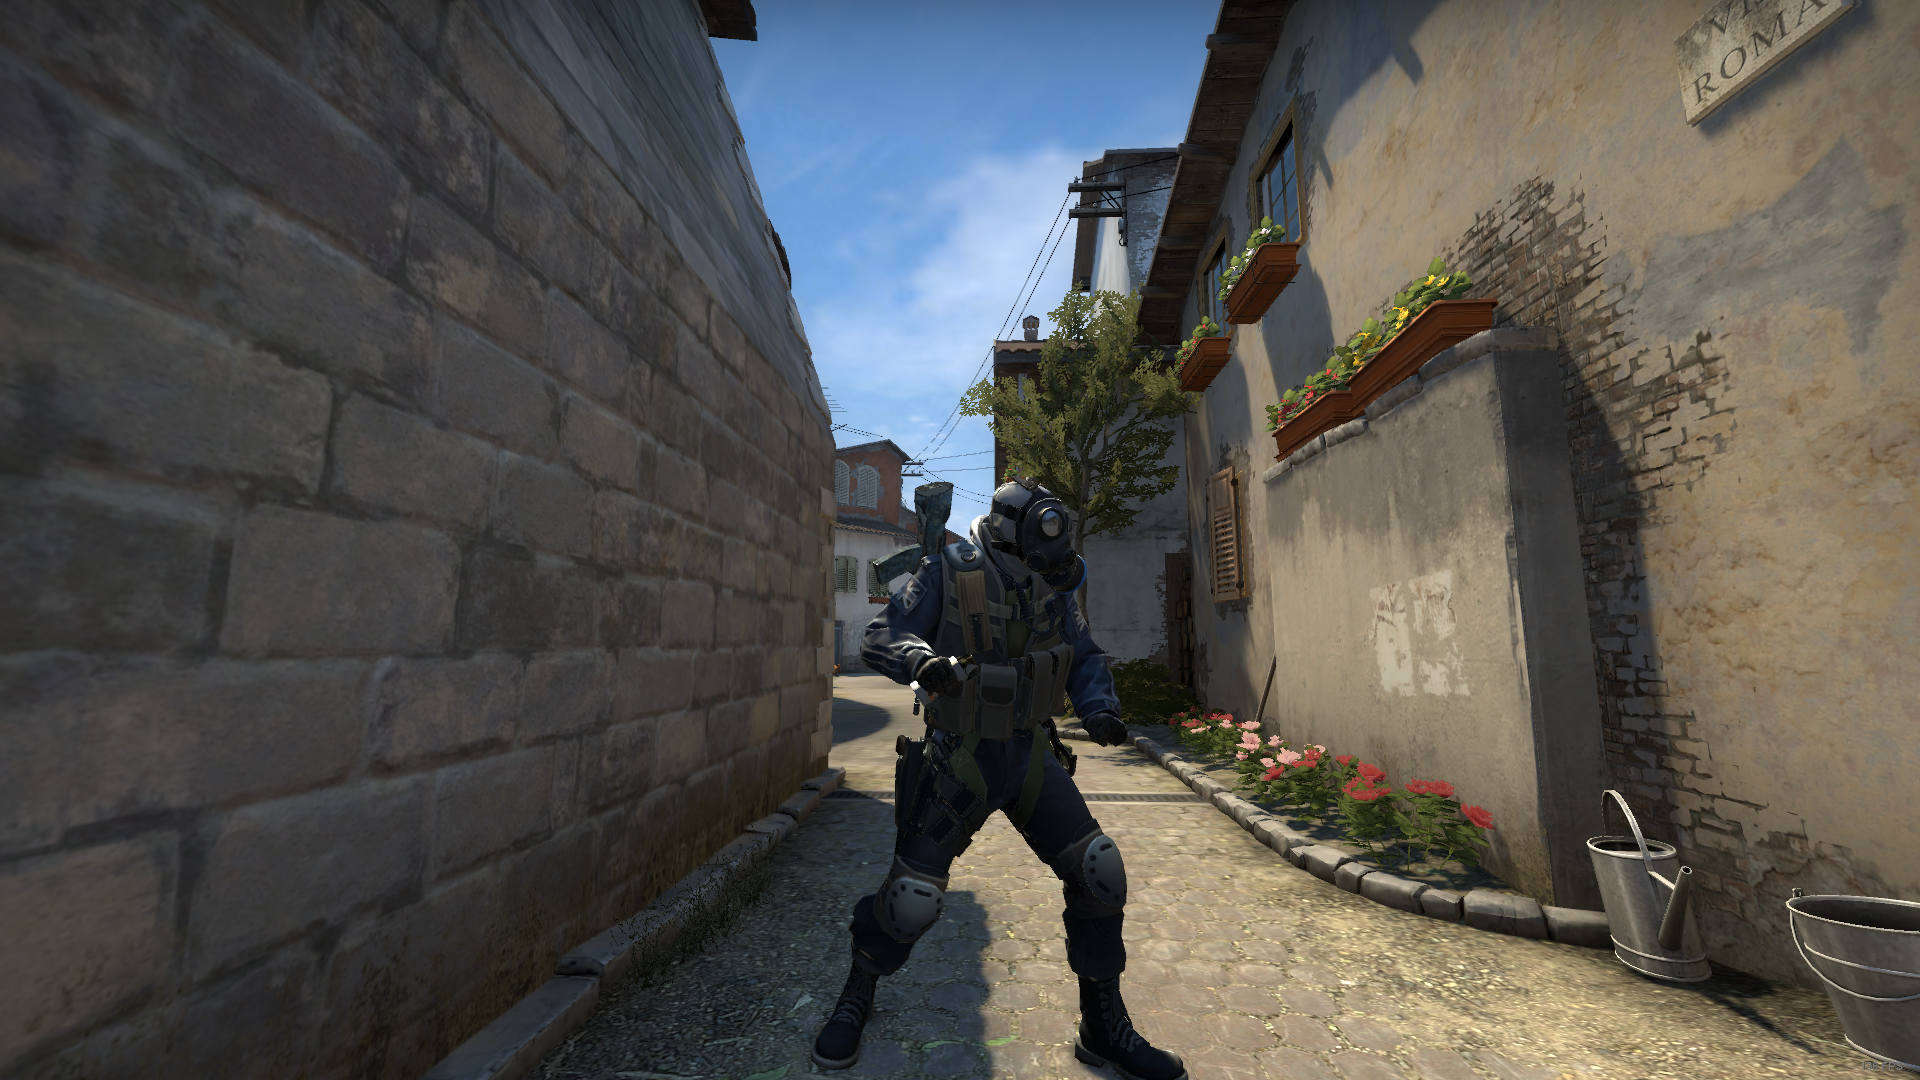ct: (804, 462, 1193, 1079)
